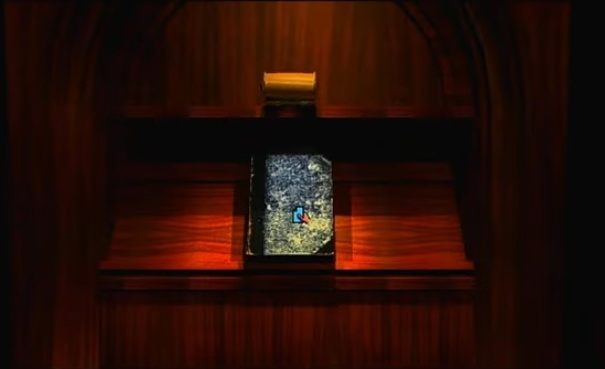Keep: (289, 204, 315, 225)
